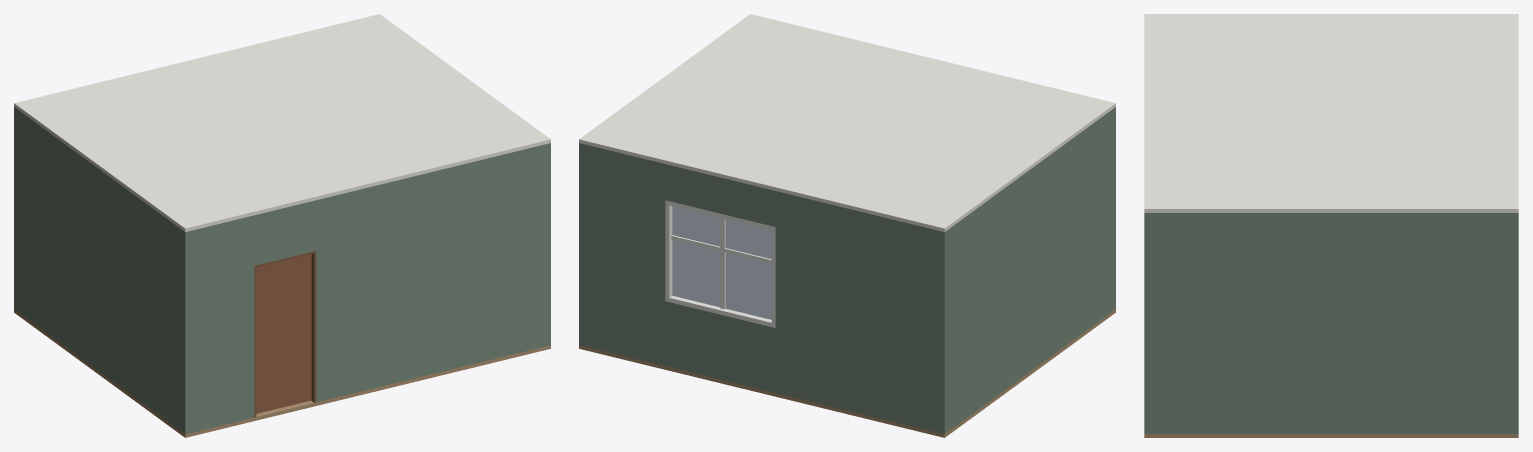
Rendered from room.glb.
3 renders of one model, left to right at view 1: azimuth 30°, elevation 25°; view 2: azimuth 150°, elevation 25°; view 3: azimuth 270°, elevation 25°, orthographic. The views are drawn at different scales.
Visible parts, largest first — view 1: room, door; view 2: room, glass, window; view 3: room.
Part boxes in pixels (<box>): room: <box>14,14,550,437</box>; door: <box>254,251,316,417</box>; room: <box>579,14,1115,437</box>; glass: <box>672,206,771,319</box>; window: <box>665,200,775,327</box>; room: <box>1144,14,1518,437</box>.
Bounding box in the file's own units: 5.3 × 2.9 × 4.3.
